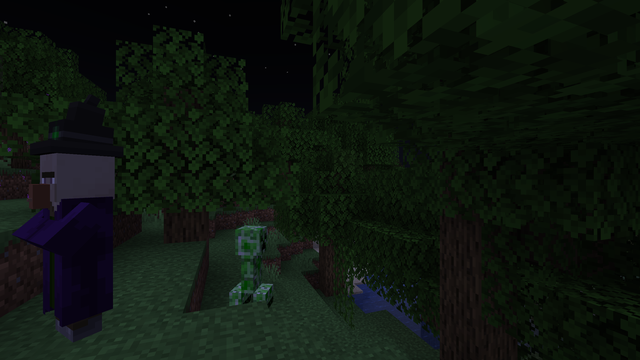creepers: (236, 221, 268, 301)
sorcieres: (20, 144, 122, 353)
